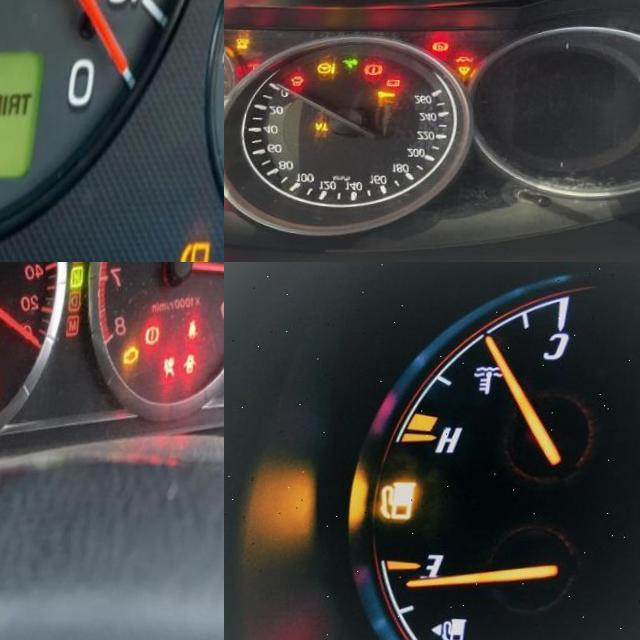Electronic Power Steering: (328, 60, 347, 72)
High Engine Coolant Temperature: (257, 61, 271, 72)
Seat Belt: (196, 316, 209, 336)
